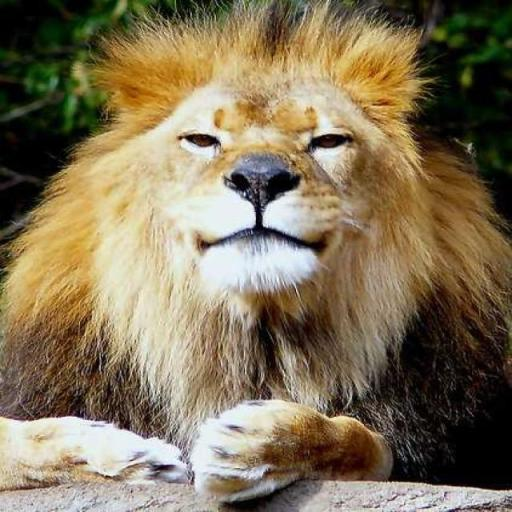Lion: (0, 0, 511, 504)
